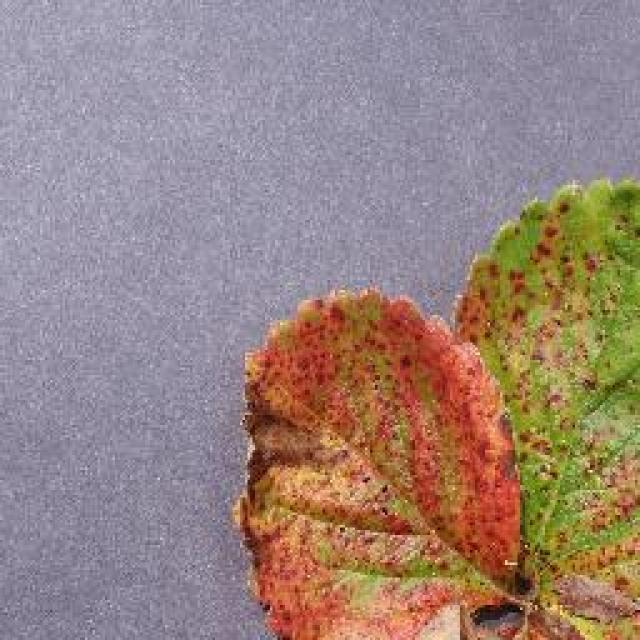Strawberry leaf scorch: (268, 345, 610, 567)
